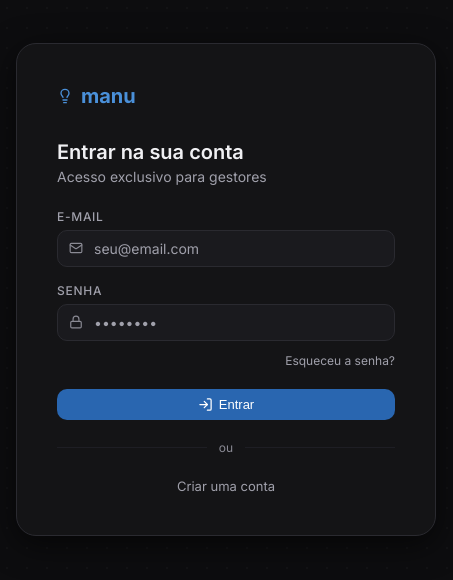
Test: Login › mostra 'Senha incorreta' para auth/invalid-credential e nao navega
The image size is (453, 580).
Type "g@x.com" into the field with placeholder "seu@email.com". click: (226, 248)
box: x1=57 y1=230 x2=395 y2=266
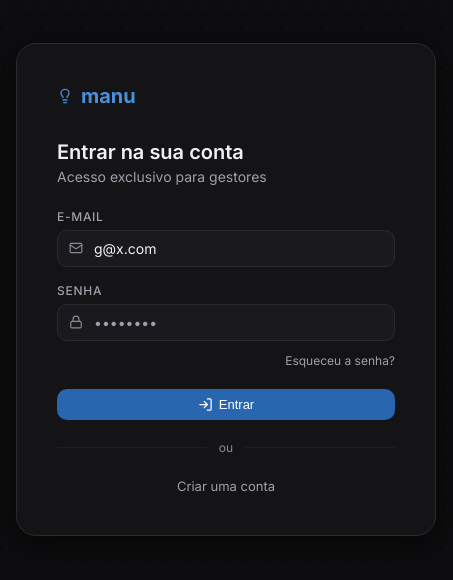
Type "secret" into the password field with placeholder "••••••••". click: (226, 322)
box: x1=57 y1=304 x2=395 y2=340
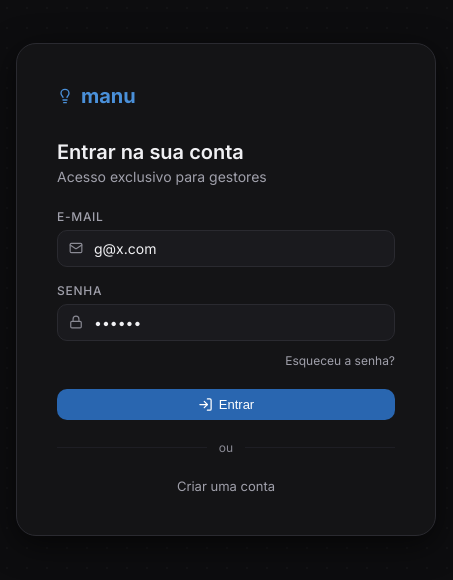
Click the button "Entrar". click: (226, 404)
box: x1=57 y1=388 x2=395 y2=420
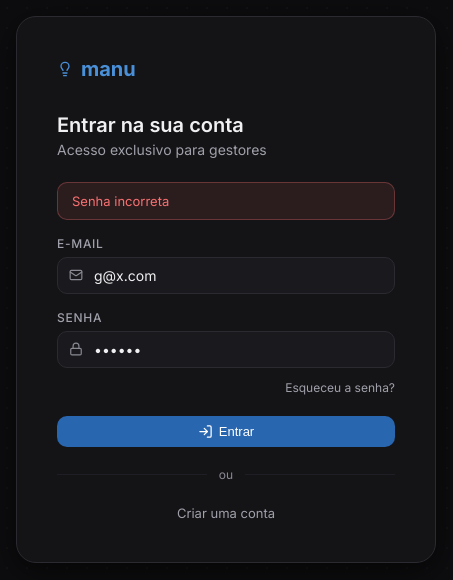
expect the text "Senha incorreta" is shown: met, box x1=57 y1=182 x2=395 y2=220
